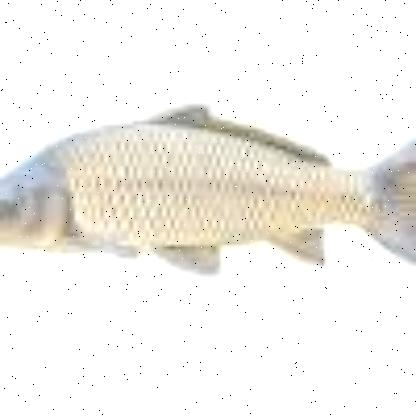ikan-mas: (0, 104, 416, 280)
